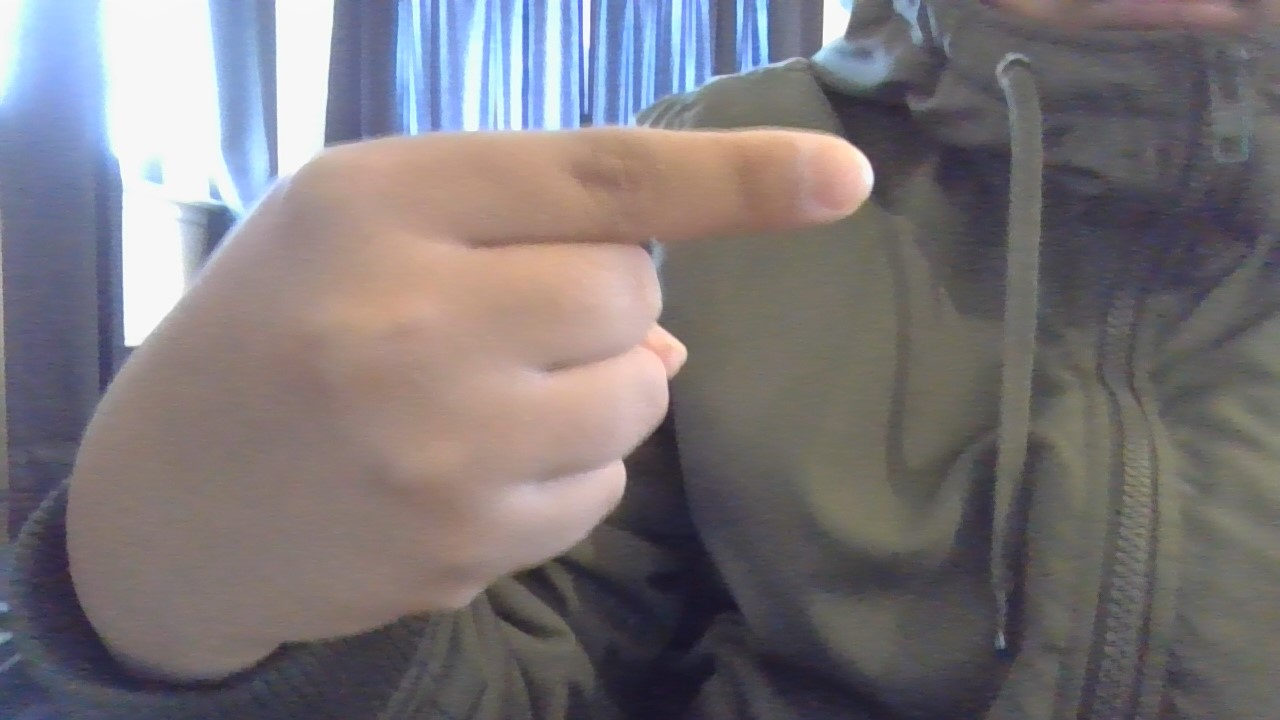g: (32, 88, 920, 682)
